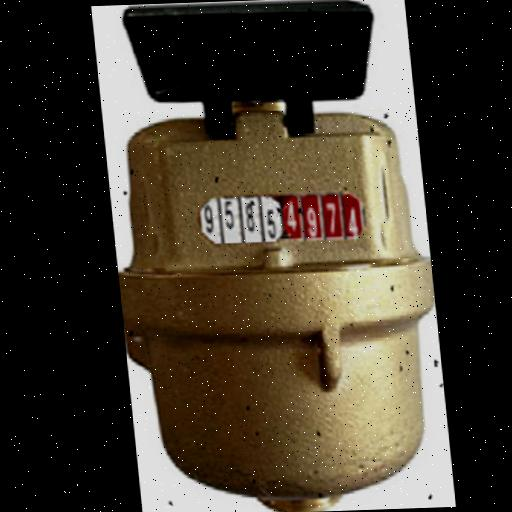4: (342, 193, 367, 237), (281, 193, 303, 240)
5: (260, 195, 284, 242), (220, 197, 243, 243)
7: (321, 193, 343, 239)
8: (239, 195, 262, 242)
9: (197, 197, 220, 244), (302, 193, 322, 239)
border_water_meter_number: (195, 191, 369, 245)
